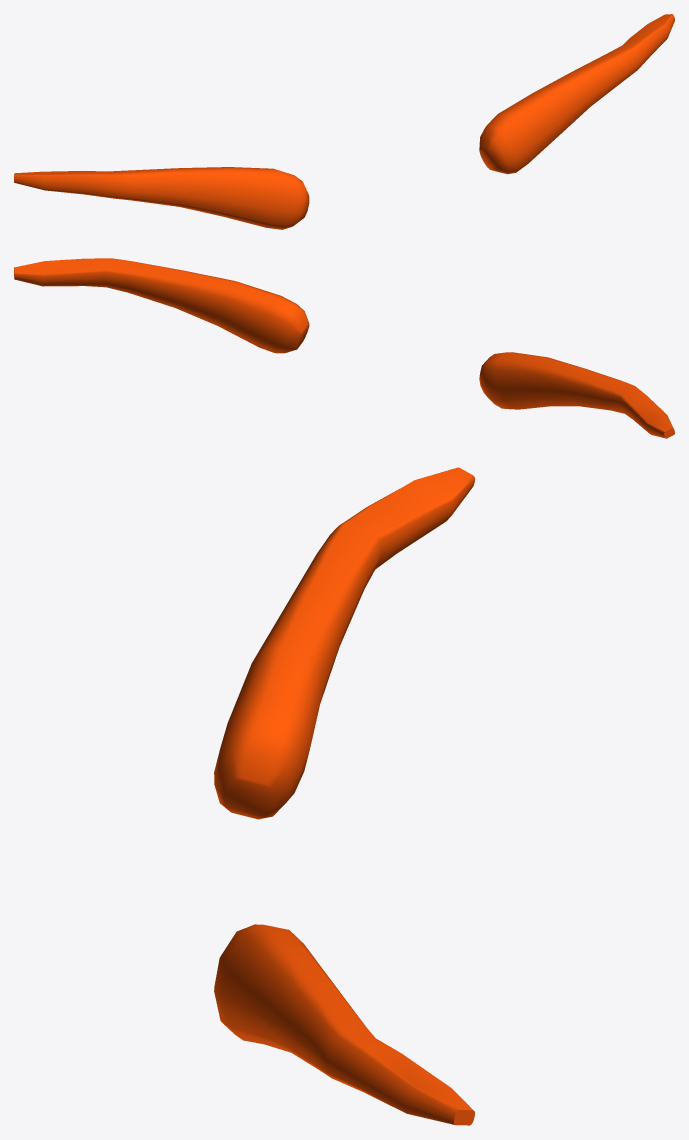
The model's file is Eyebrows_26_06.fbx.
3 views of the same model, one above another, from view 1: azimuth 30°, elevation 25°; view 2: azimuth 150°, elevation 25°; view 3: azimuth 270°, elevation 25° (orthographic). The views are drawn at different scales.
Parts seen in each view (by area): view 1: Eyebrows_26_06; view 2: Eyebrows_26_06; view 3: Eyebrows_26_06.
Boxes of the visible parts, x1,y1,x2,y2 form: Eyebrows_26_06: (14, 14, 674, 229); Eyebrows_26_06: (14, 258, 674, 438); Eyebrows_26_06: (214, 467, 474, 1125).
Size of the model in its own units: 17.7 by 1.89 by 3.02.
